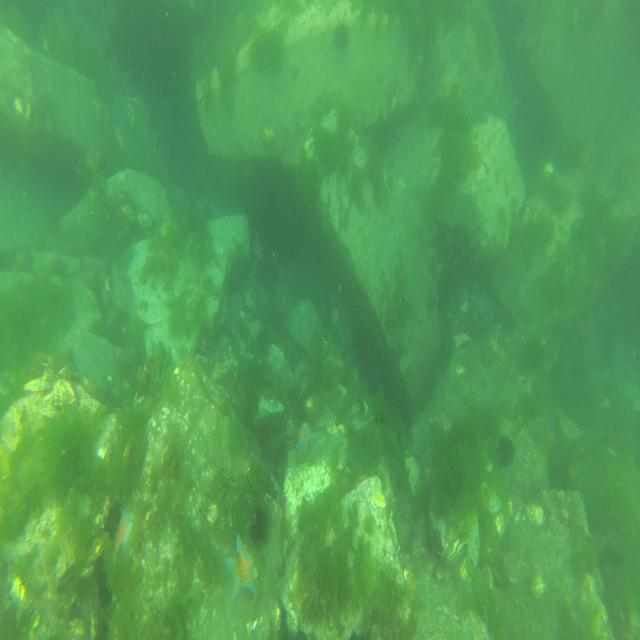echinus: (249, 500, 272, 545), (494, 433, 518, 470), (331, 17, 351, 51)
scallop: (21, 374, 52, 396)
starfish: (223, 535, 258, 603), (111, 506, 136, 567), (295, 421, 319, 456), (452, 327, 472, 351), (440, 417, 454, 434)
